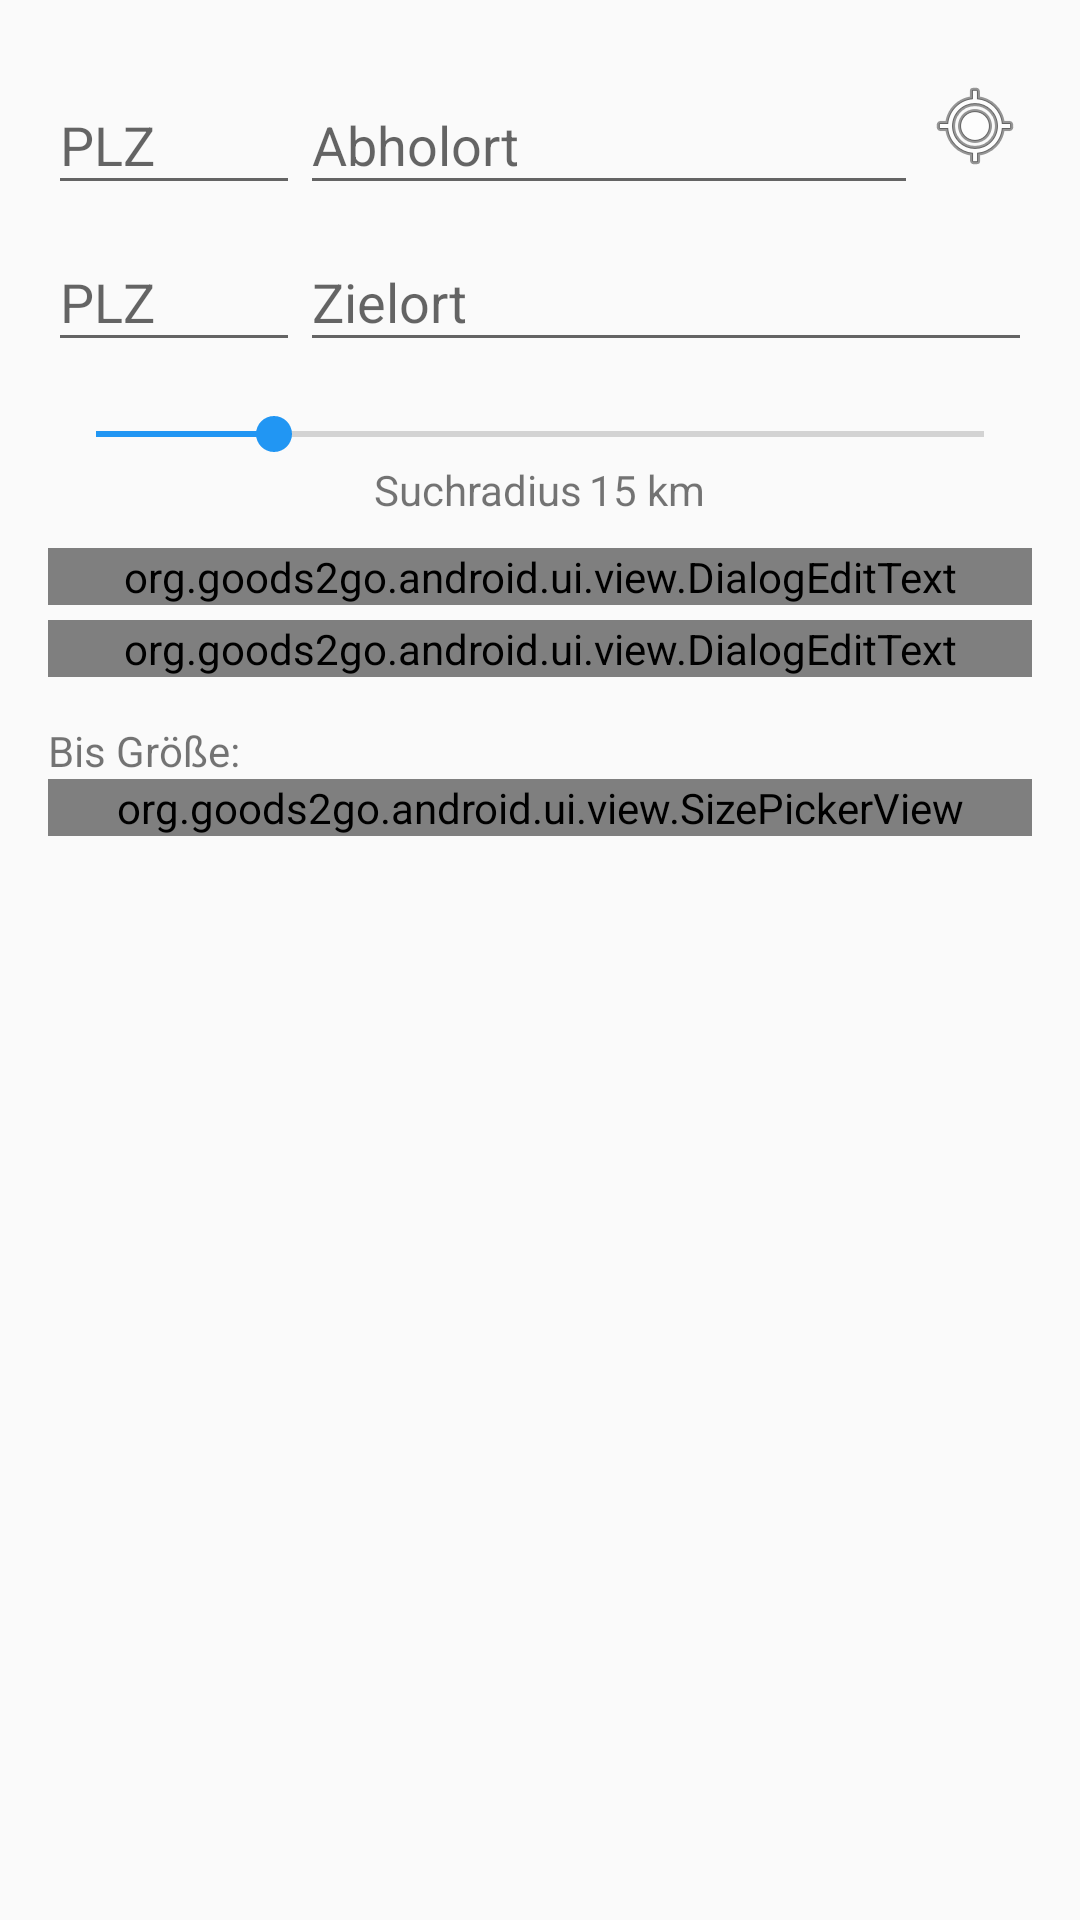

Icon click points for this 1080 × 1920 phone screenshot, format [x,y]:
mylocation: [975,126]
